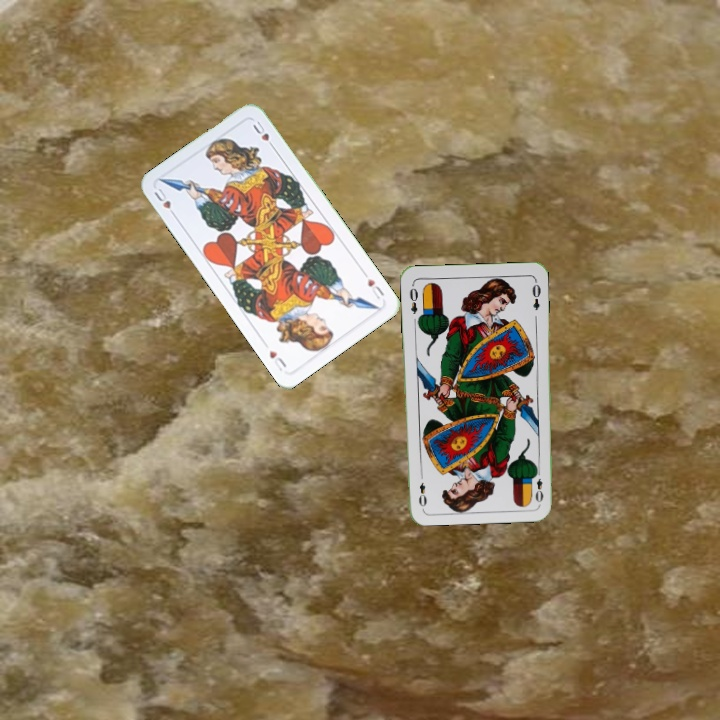EO: (530, 465, 545, 505), (405, 281, 420, 316)
HU: (150, 183, 179, 220), (363, 274, 387, 302)
